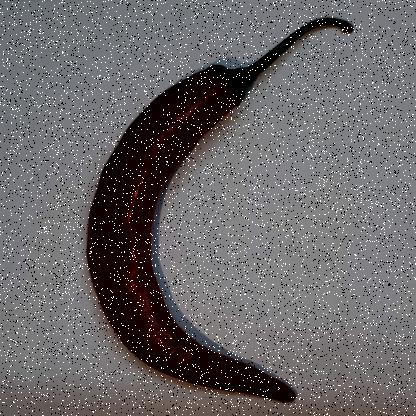chili: (83, 16, 354, 414)
